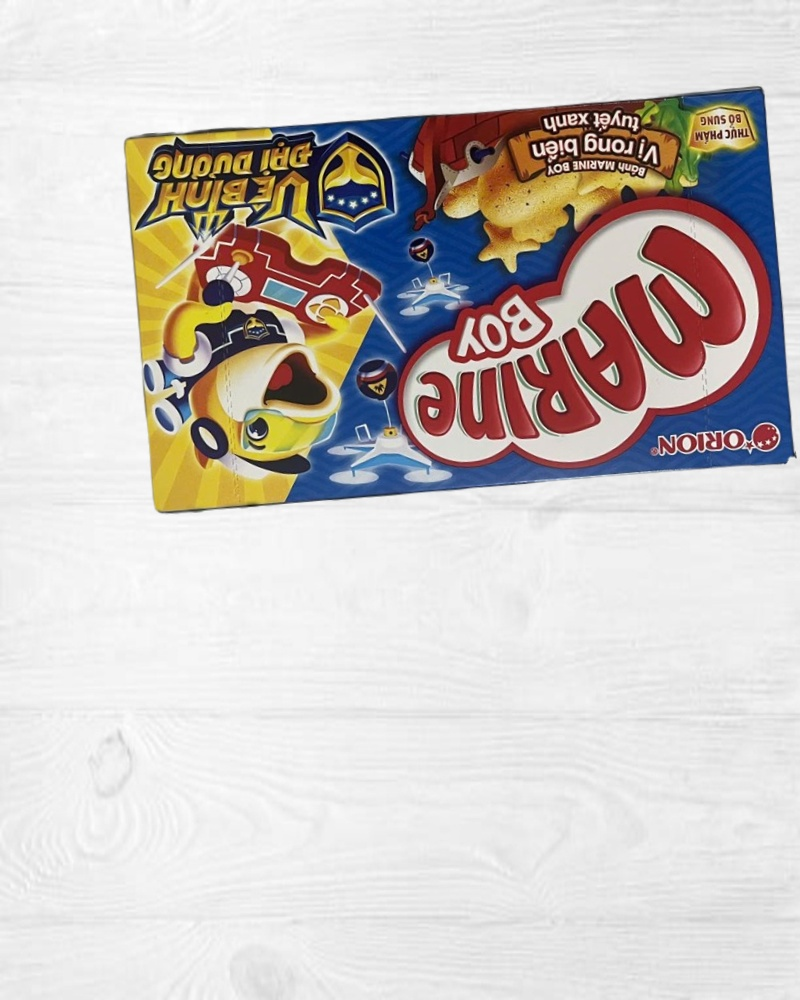Marine: (121, 82, 797, 519)
